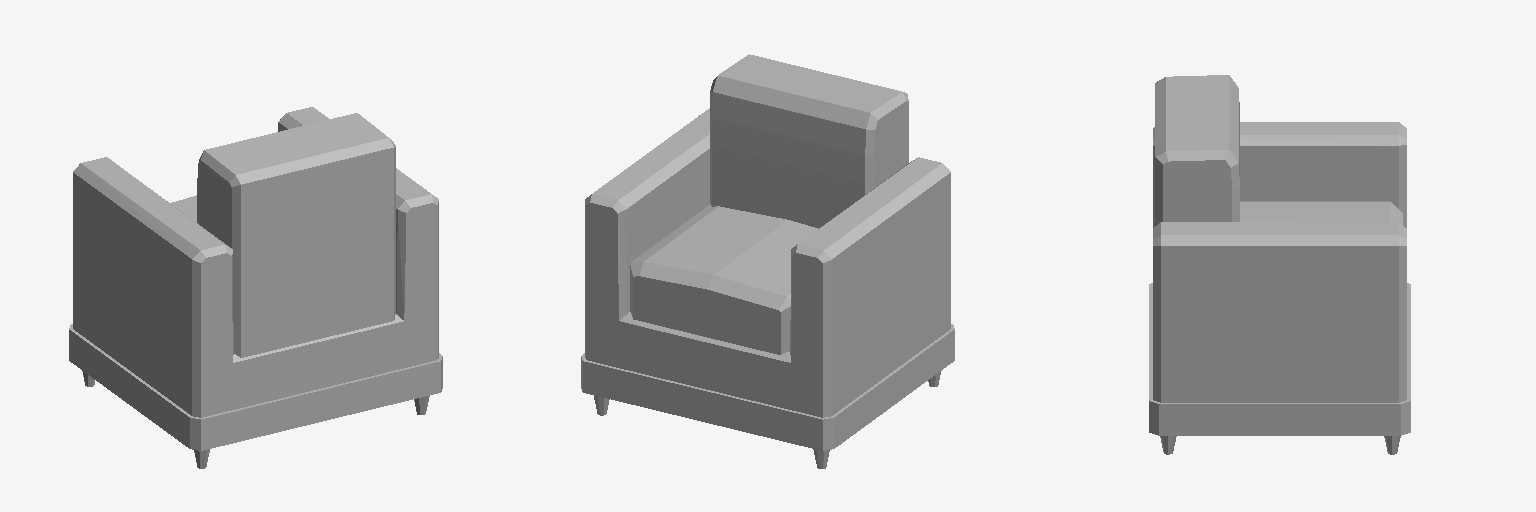
Rendered from armchair01.obj.
3 views of the same model, side by side, from view 1: azimuth 30°, elevation 25°; view 2: azimuth 150°, elevation 25°; view 3: azimuth 270°, elevation 25° (orthographic).
Visible parts, largest first — view 1: mesh; view 2: mesh; view 3: mesh.
Part boxes in pixels (bbox=[...]): mesh: bbox=[69, 107, 442, 468]; mesh: bbox=[581, 54, 954, 468]; mesh: bbox=[1149, 75, 1410, 454].
Size of the model in its own units: 49.01 by 53.07 by 43.81.